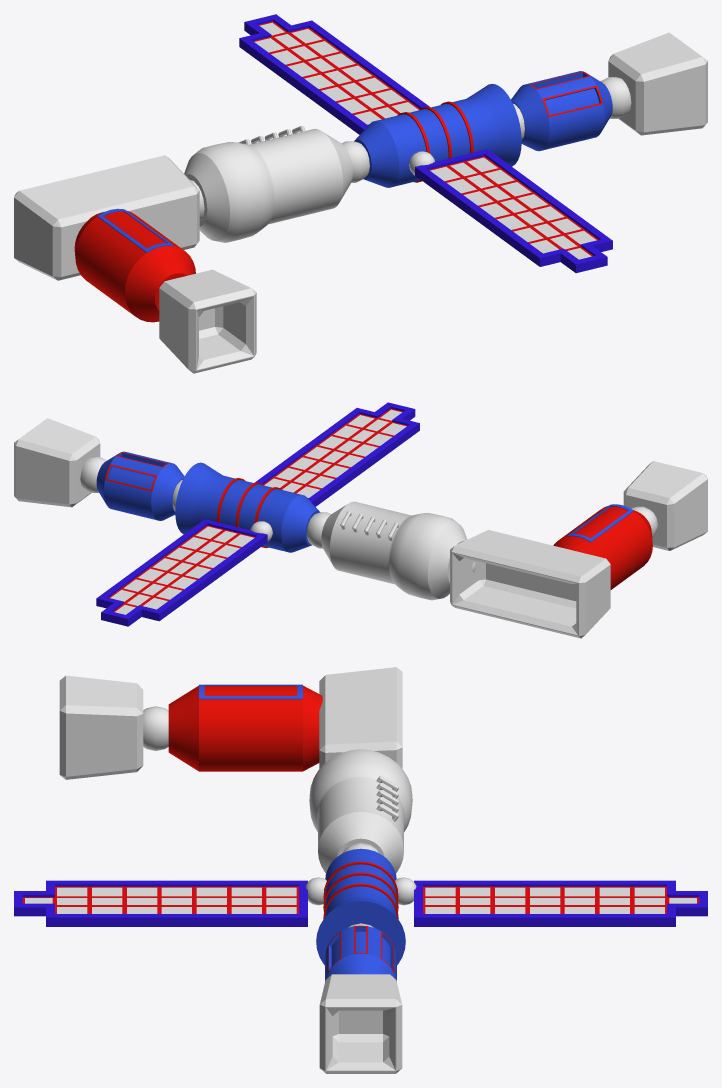
File: SpaceStation.fbx
3 renders of one model, top to bottom at view 1: azimuth 30°, elevation 25°; view 2: azimuth 150°, elevation 25°; view 3: azimuth 270°, elevation 25°, orthographic. The views are drawn at different scales.
Parts seen in each view (by area): view 1: Cube.002, Cylinder.001, Cube.007, Cylinder, Cylinder.003, Cube.010, Cube.006, Cylinder.002, Cube.005, Cube.001; view 2: Cube.002, Cube.007, Cylinder.001, Cylinder, Cube.006, Cube.010, Cylinder.003, Cylinder.002, Cube.005, Cube.001, Cube.011; view 3: Cube.002, Cylinder.003, Cylinder.001, Cube.010, Cube.006, Cube.007, Cylinder, Cylinder.002, Cube.009, Cube.003, Cube.011.
Part boxes in pixels (x1,y1,x2,y2): Cube.002: (239, 14, 612, 273); Cylinder.001: (184, 129, 352, 242); Cube.007: (14, 155, 199, 280); Cylinder: (354, 84, 521, 187); Cylinder.003: (74, 208, 195, 322); Cube.010: (159, 269, 256, 373); Cube.006: (608, 32, 707, 135); Cylinder.002: (511, 71, 612, 151); Cube.005: (600, 77, 631, 118); Cube.001: (342, 141, 369, 182); Cube.002: (96, 402, 419, 626); Cube.007: (450, 530, 610, 638); Cylinder.001: (321, 501, 467, 600); Cylinder: (175, 462, 319, 552); Cube.006: (14, 418, 100, 507); Cube.010: (623, 461, 707, 550); Cylinder.003: (553, 504, 652, 589); Cylinder.002: (96, 451, 184, 520); Cube.005: (80, 457, 106, 492); Cube.001: (306, 512, 330, 548); Cube.011: (340, 511, 399, 540); Cube.002: (14, 880, 707, 926); Cylinder.003: (168, 684, 322, 771); Cylinder.001: (309, 749, 412, 873); Cube.010: (59, 675, 143, 779); Cube.006: (319, 974, 402, 1073); Cube.007: (319, 667, 402, 768); Cylinder: (316, 848, 405, 965); Cylinder.002: (325, 925, 396, 981); Cube.009: (143, 706, 168, 750); Cube.003: (305, 877, 416, 905); Cube.011: (376, 776, 398, 821).
Bounding box in the file's own units: 1083 × 140 × 942.
